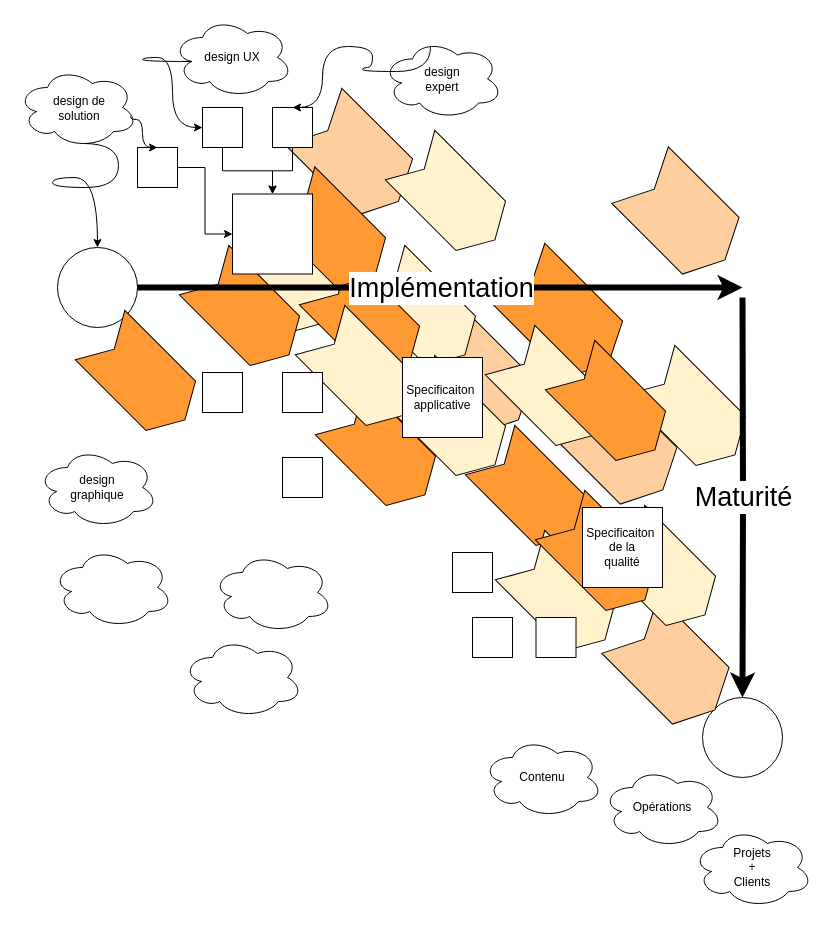
This 830x925 diagram has some shape labels left out. Each missing label, with the centre of its shape:
IDÉE: pixel 97 287
PRODUIT: pixel 742 737
Specificaiton du problème: pixel 272 233
